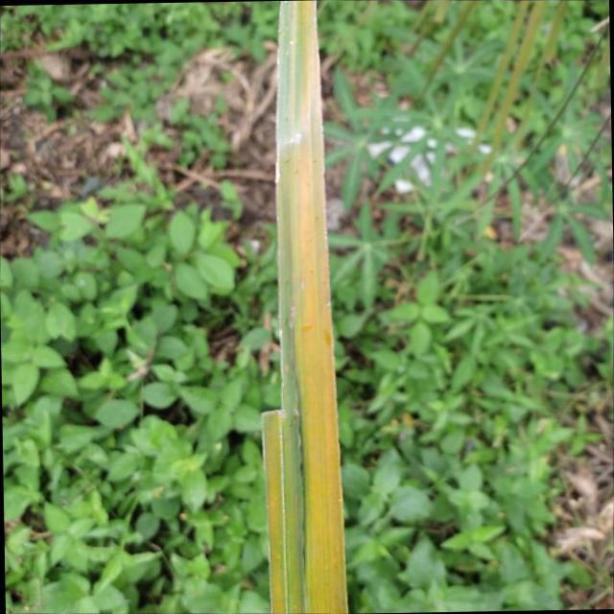Megnesium: (254, 0, 347, 614)
